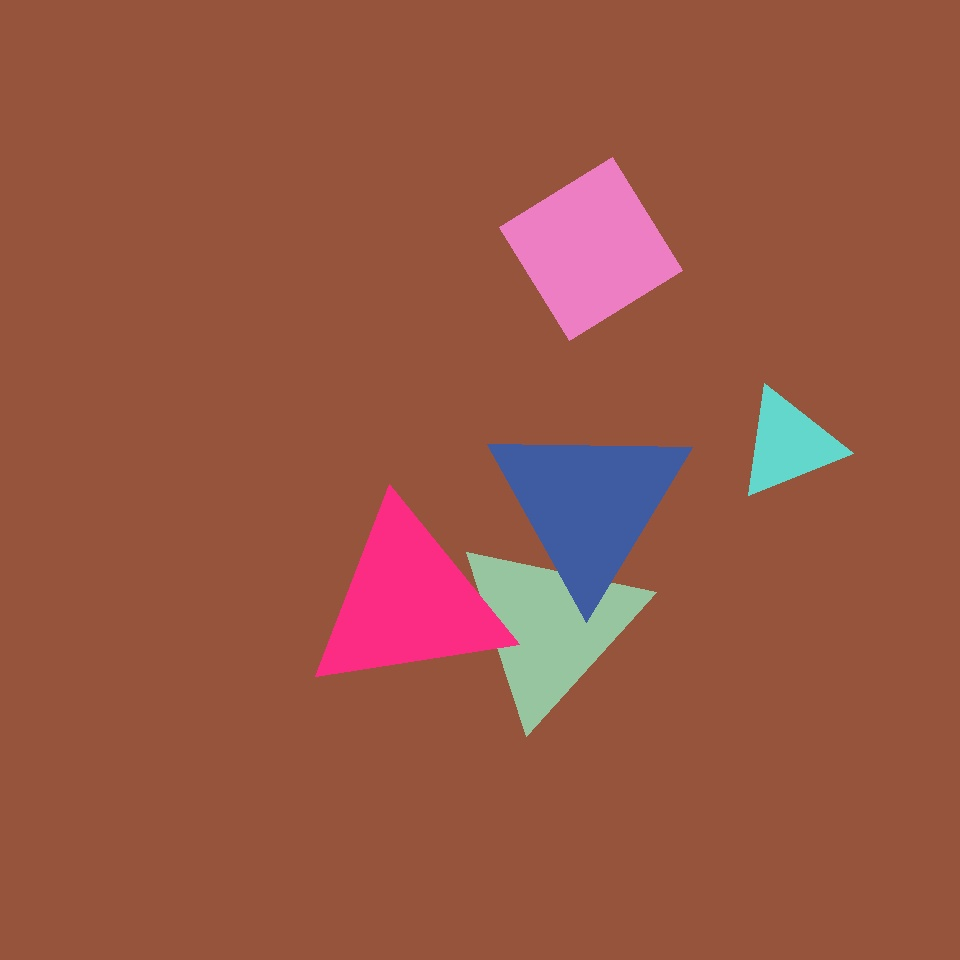circle: (306, 506, 510, 698), (486, 416, 692, 594), (455, 535, 645, 719), (736, 388, 842, 500)
square: (499, 158, 682, 341)
